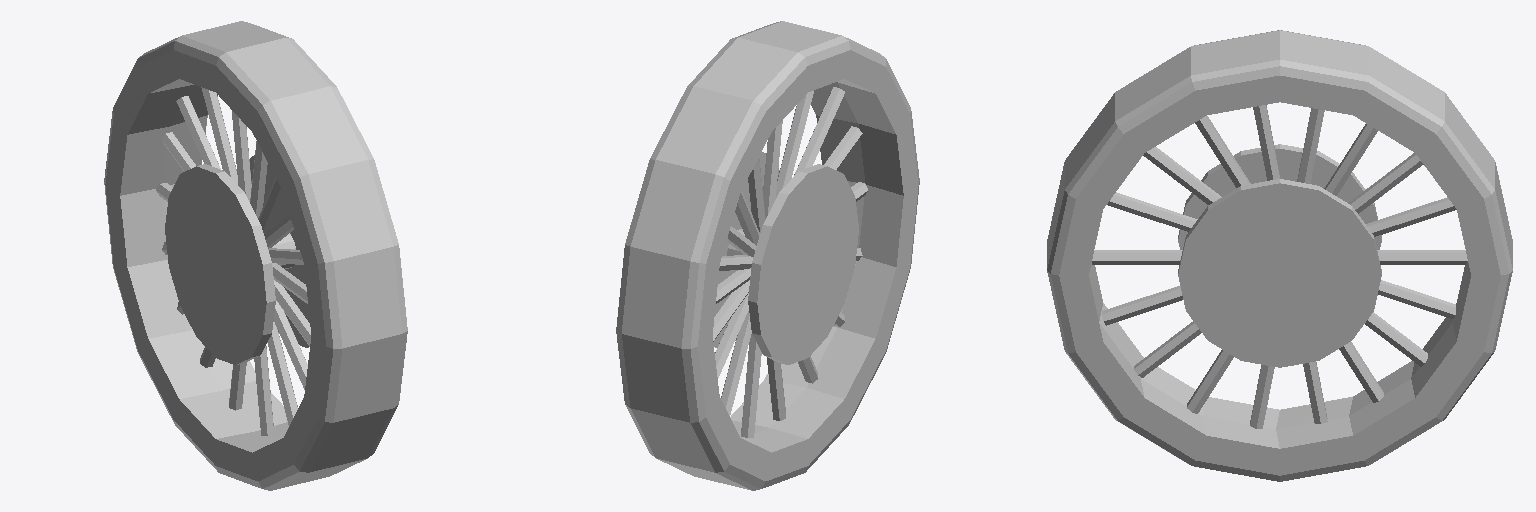
Rendered from motor_kerek.obj.
3 views of the same model, side by side, from view 1: azimuth 30°, elevation 25°; view 2: azimuth 150°, elevation 25°; view 3: azimuth 270°, elevation 25° (orthographic).
Visible parts, largest first — view 1: Front_wheel_Cylinder.002; view 2: Front_wheel_Cylinder.002; view 3: Front_wheel_Cylinder.002.
Part boxes in pixels (x1,y1,x2,y2): Front_wheel_Cylinder.002: (104, 21, 407, 490); Front_wheel_Cylinder.002: (616, 21, 919, 490); Front_wheel_Cylinder.002: (1047, 30, 1512, 481).
Bounding box in the file's own units: 0.4571 × 2.29 × 2.29.